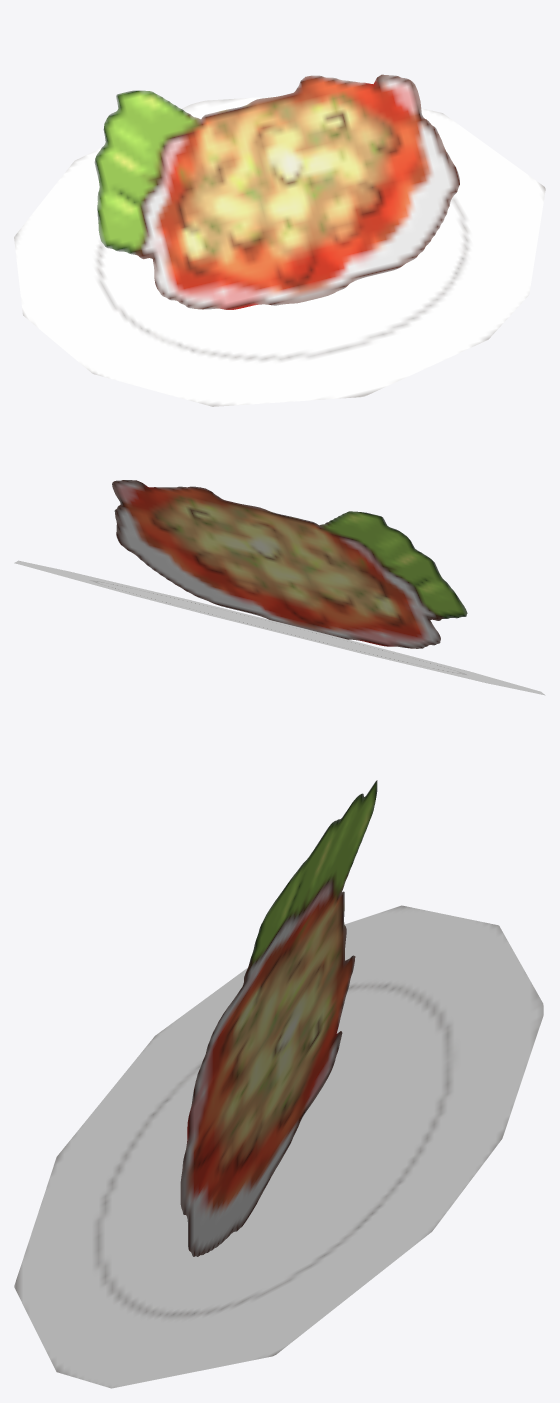
Rendered from giftgoods055.fbx.
3 renders of one model, top to bottom at view 1: azimuth 30°, elevation 25°; view 2: azimuth 150°, elevation 25°; view 3: azimuth 270°, elevation 25°, orthographic. The views are drawn at different scales.
Visible parts, largest first — view 1: giftgoods055; view 2: giftgoods055; view 3: giftgoods055.
Boxes of the visible parts, x1,y1,x2,y2 form: giftgoods055: [14, 74, 545, 406]; giftgoods055: [14, 480, 545, 695]; giftgoods055: [14, 780, 543, 1388].
Size of the model in its own units: 0.481 by 0.2214 by 0.265.
